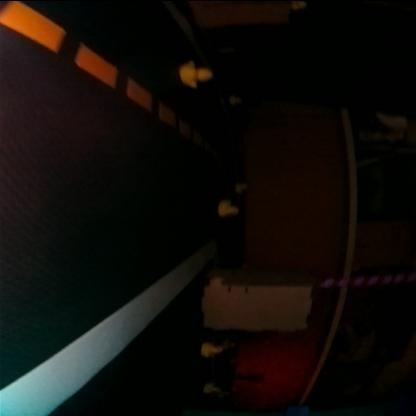Duckie: (182, 59, 213, 85), (219, 200, 240, 216), (202, 340, 223, 356), (204, 383, 220, 391), (292, 1, 308, 8), (237, 182, 249, 191), (224, 338, 235, 346), (220, 390, 230, 396), (232, 94, 240, 100)
